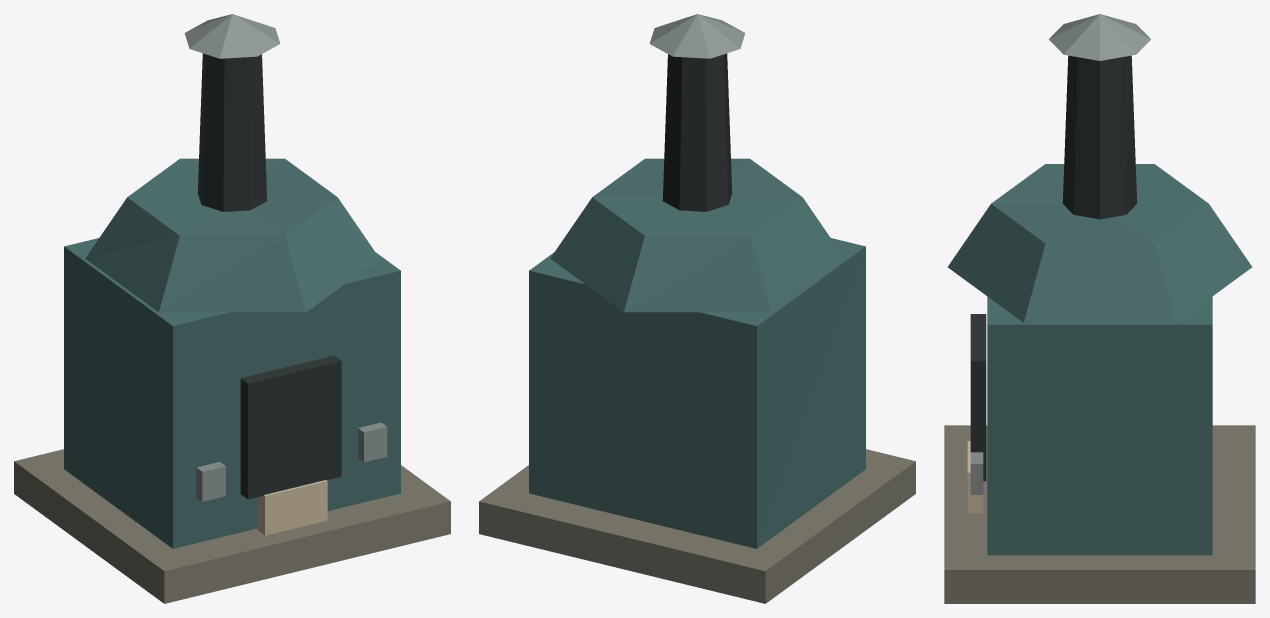
Rendered from wood-furnace.source.glb.
The picture shows the model from 3 angles, left to right: view 1: azimuth 30°, elevation 25°; view 2: azimuth 150°, elevation 25°; view 3: azimuth 270°, elevation 25°; orthographic projection. The views are drawn at different scales.
Parts seen in each view (by area): view 1: wood-furnace-tall-furnace-shell-mesh, wood-furnace-tapered-furnace-top-mesh, wood-furnace-stone-foundation-mesh, wood-furnace-firebox-door-mesh, wood-furnace-tall-chimney-mesh, wood-furnace-chimney-cap-mesh, wood-furnace-ash-door-mesh, wood-furnace-firebox-vent--0.62-mesh, wood-furnace-firebox-vent-0.62-mesh; view 2: wood-furnace-tall-furnace-shell-mesh, wood-furnace-tapered-furnace-top-mesh, wood-furnace-stone-foundation-mesh, wood-furnace-tall-chimney-mesh, wood-furnace-chimney-cap-mesh; view 3: wood-furnace-tall-furnace-shell-mesh, wood-furnace-tapered-furnace-top-mesh, wood-furnace-stone-foundation-mesh, wood-furnace-tall-chimney-mesh, wood-furnace-chimney-cap-mesh, wood-furnace-firebox-door-mesh, wood-furnace-firebox-vent-0.62-mesh, wood-furnace-ash-door-mesh.
Part boxes in pixels (left/top/right/bottom): wood-furnace-tall-furnace-shell-mesh: left=64, top=238, right=400, bottom=548; wood-furnace-tapered-furnace-top-mesh: left=85, top=158, right=379, bottom=312; wood-furnace-stone-foundation-mesh: left=14, top=449, right=450, bottom=603; wood-furnace-firebox-door-mesh: left=240, top=355, right=341, bottom=499; wood-furnace-tall-chimney-mesh: left=197, top=53, right=267, bottom=211; wood-furnace-chimney-cap-mesh: left=184, top=14, right=280, bottom=58; wood-furnace-ash-door-mesh: left=257, top=480, right=327, bottom=535; wood-furnace-firebox-vent--0.62-mesh: left=196, top=462, right=225, bottom=501; wood-furnace-firebox-vent-0.62-mesh: left=358, top=422, right=387, bottom=462; wood-furnace-tall-furnace-shell-mesh: left=529, top=238, right=865, bottom=548; wood-furnace-tapered-furnace-top-mesh: left=550, top=158, right=844, bottom=312; wood-furnace-stone-foundation-mesh: left=479, top=449, right=915, bottom=603; wood-furnace-tall-chimney-mesh: left=662, top=53, right=732, bottom=211; wood-furnace-chimney-cap-mesh: left=649, top=14, right=745, bottom=58; wood-furnace-tall-furnace-shell-mesh: left=987, top=296, right=1212, bottom=555; wood-furnace-tapered-furnace-top-mesh: left=947, top=164, right=1252, bottom=322; wood-furnace-stone-foundation-mesh: left=944, top=425, right=1255, bottom=603; wood-furnace-tall-chimney-mesh: left=1062, top=55, right=1137, bottom=219; wood-furnace-chimney-cap-mesh: left=1049, top=14, right=1150, bottom=60; wood-furnace-firebox-door-mesh: left=970, top=314, right=986, bottom=481; wood-furnace-firebox-vent-0.62-mesh: left=970, top=452, right=983, bottom=494; wood-furnace-ash-door-mesh: left=967, top=441, right=983, bottom=513.
Size of the model in its own units: 2.2 by 3.67 by 2.
